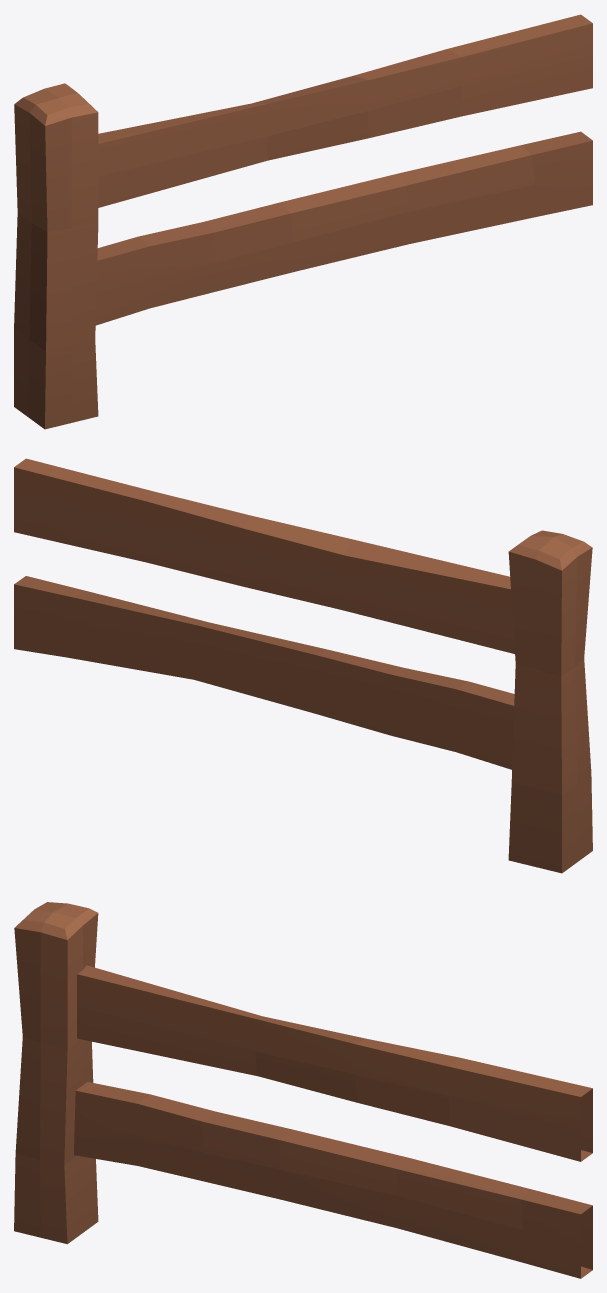
File: untreated-left.glb
3 views of the same model, one above another, from view 1: azimuth 30°, elevation 25°; view 2: azimuth 150°, elevation 25°; view 3: azimuth 330°, elevation 25° (orthographic).
Parts seen in each view (by area): view 1: untreated left; view 2: untreated left; view 3: untreated left.
Boxes of the visible parts, <box> form: untreated left: <box>14,14,592,429</box>; untreated left: <box>14,458,592,873</box>; untreated left: <box>14,902,592,1278</box>.
Bounding box in the file's own units: 3.35 × 1.82 × 0.3294.
Materials: 1 (1 with a texture image).
